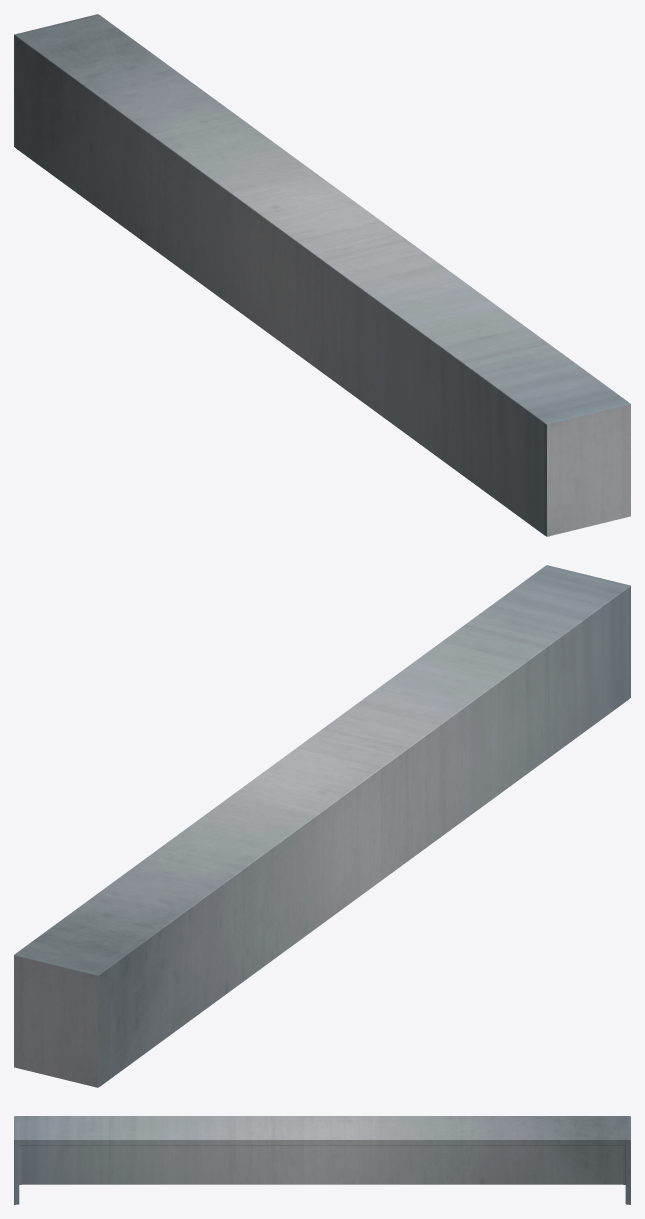
Rendered from LARGE_TABLE.fbx.
3 views of the same model, one above another, from view 1: azimuth 30°, elevation 25°; view 2: azimuth 150°, elevation 25°; view 3: azimuth 270°, elevation 25° (orthographic). The views are drawn at different scales.
Visible parts, largest first — view 1: LARGE_TABLE; view 2: LARGE_TABLE; view 3: LARGE_TABLE.
Boxes of the visible parts, x1,y1,x2,y2 form: LARGE_TABLE: (14, 14, 630, 536); LARGE_TABLE: (14, 565, 630, 1087); LARGE_TABLE: (14, 1116, 630, 1204).
Bounding box in the file's own units: 77.82 × 98.95 × 849.
